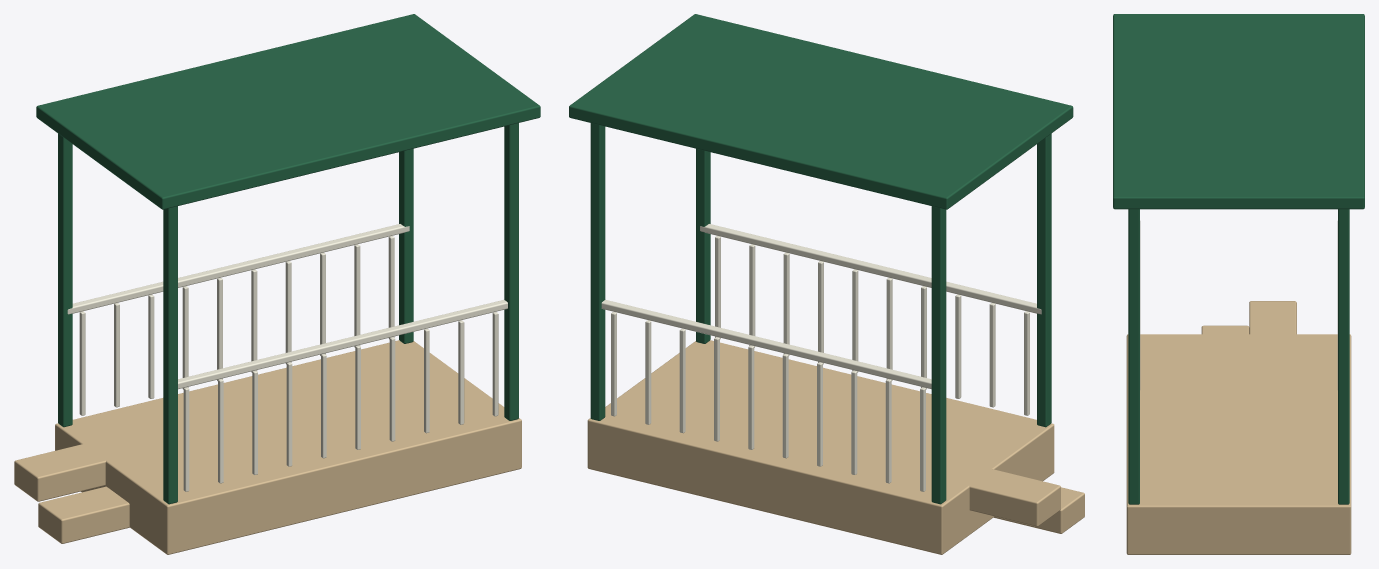
File: cricket-ground-and-pavilion-covered-scorer-balcony-31be58ae__31310.glb
The picture shows the model from 3 angles, left to right: view 1: azimuth 30°, elevation 25°; view 2: azimuth 150°, elevation 25°; view 3: azimuth 270°, elevation 25°; orthographic projection.
Visible parts, largest first — view 1: covered-scorer-balcony; view 2: covered-scorer-balcony; view 3: covered-scorer-balcony.
Boxes of the visible parts, box(x1,y1,x2,y2) form: covered-scorer-balcony: box(14, 14, 540, 554); covered-scorer-balcony: box(569, 14, 1084, 554); covered-scorer-balcony: box(1113, 14, 1364, 554).
Bounding box in the file's own units: 3.67 × 2.95 × 1.85.
